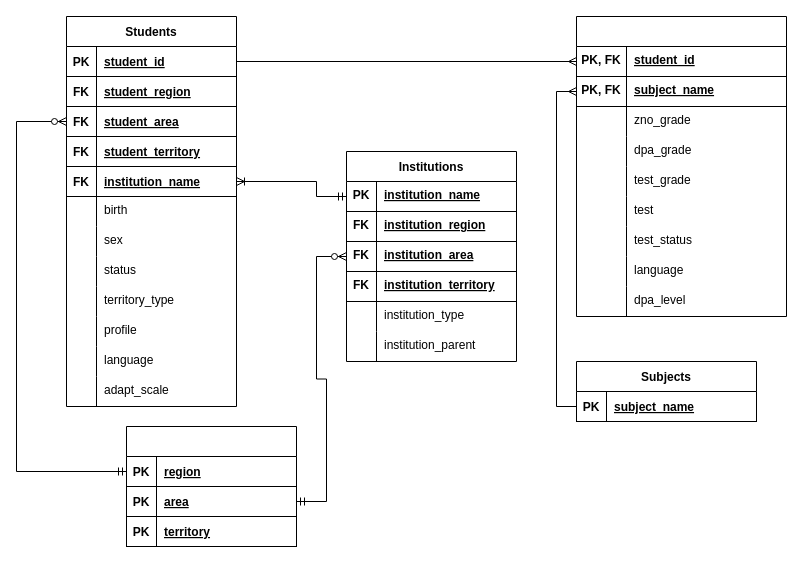
Some shapes in this 803 by 563 pixel diagram are drawn without their labels. Each missing label, with the box of its shape:
Locations: (126, 426, 296, 546)
Students_Subjects: (576, 16, 786, 316)
